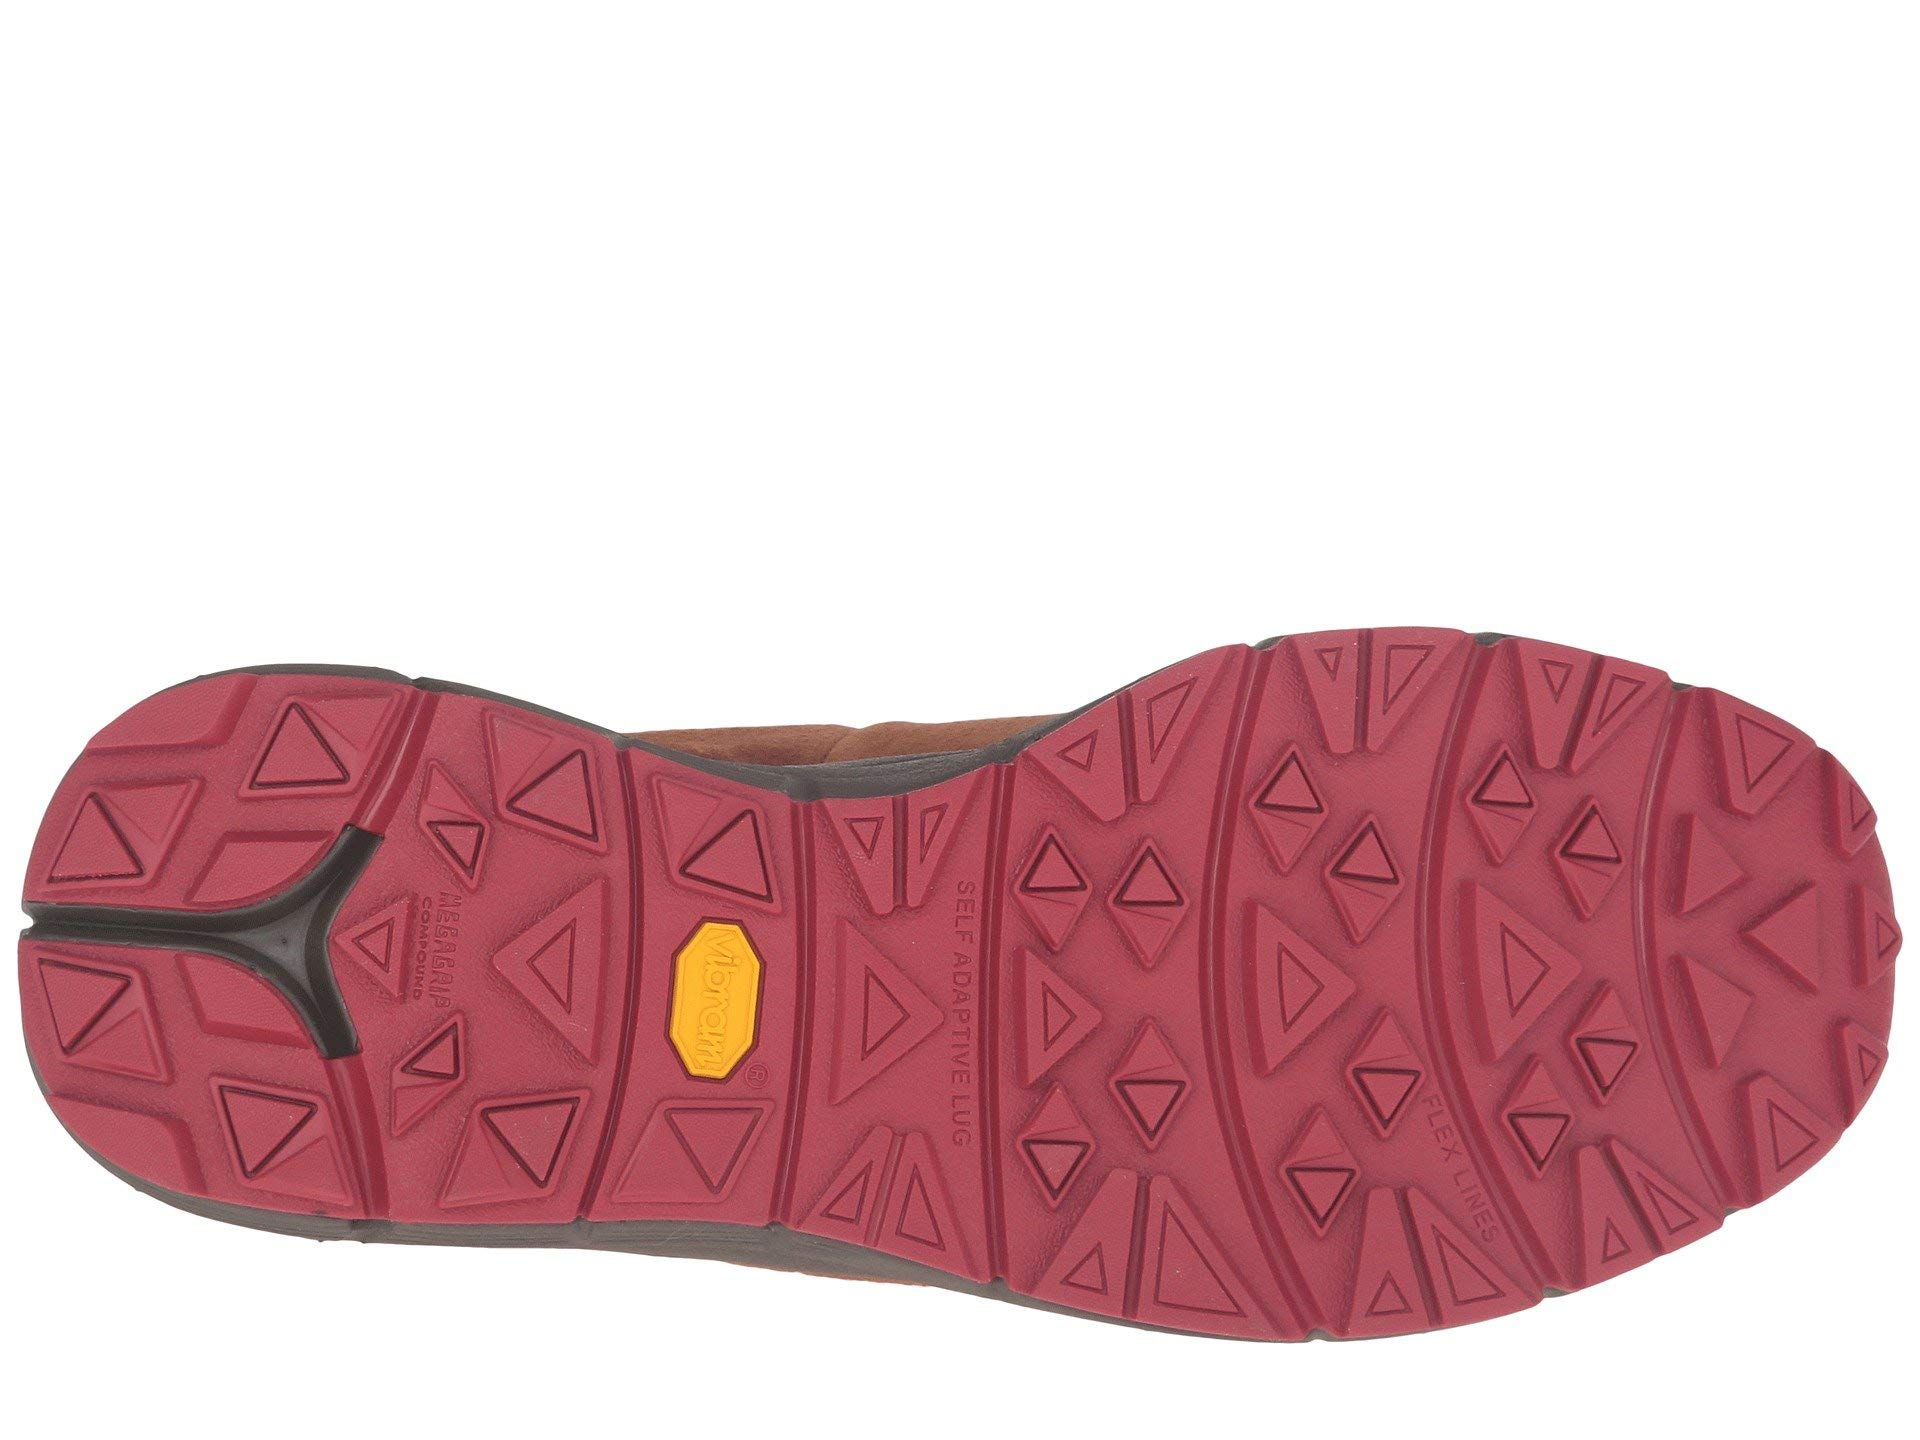circle: (355, 744, 618, 1198), (636, 796, 779, 1218)
polygon: (636, 796, 779, 1218)
quad: (355, 744, 618, 1198), (636, 796, 779, 1218)
text: (355, 744, 618, 1198), (813, 799, 992, 1275), (636, 796, 779, 1218), (242, 685, 399, 808)
triangle: (1010, 812, 1250, 1327), (355, 744, 618, 1198), (1273, 635, 1432, 1343), (1476, 656, 1649, 1254), (813, 799, 992, 1275), (36, 942, 336, 1187), (1661, 755, 1847, 1110), (636, 796, 779, 1218), (243, 669, 410, 811), (44, 759, 207, 902), (183, 820, 342, 914)
